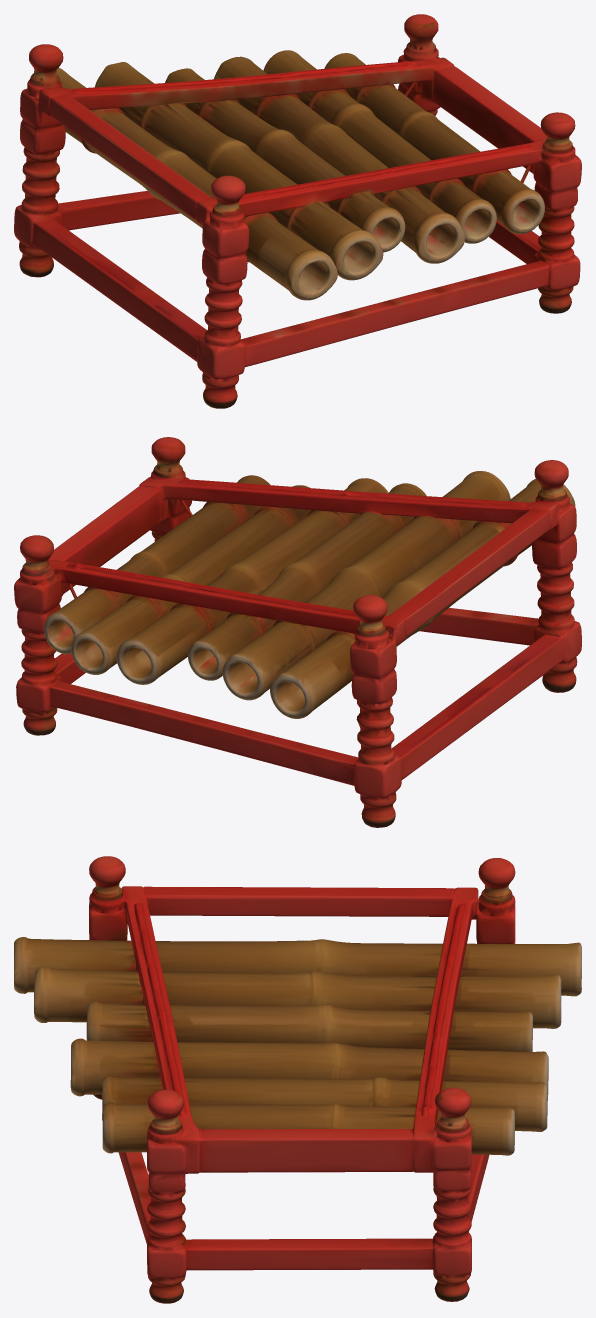
File: dhendhem-compressed.glb
3 views of the same model, one above another, from view 1: azimuth 30°, elevation 25°; view 2: azimuth 150°, elevation 25°; view 3: azimuth 270°, elevation 25° (orthographic). The views are drawn at different scales.
Visible parts, largest first — view 1: material; view 2: material; view 3: material.
Part boxes in pixels (x1,y1,x2,y2): material: (14,14,581,408); material: (14,437,581,827); material: (14,856,581,1303).
Bounding box in the file's own units: 0.8543 × 0.4863 × 0.9873.
Materials: 1 (1 with a texture image).
